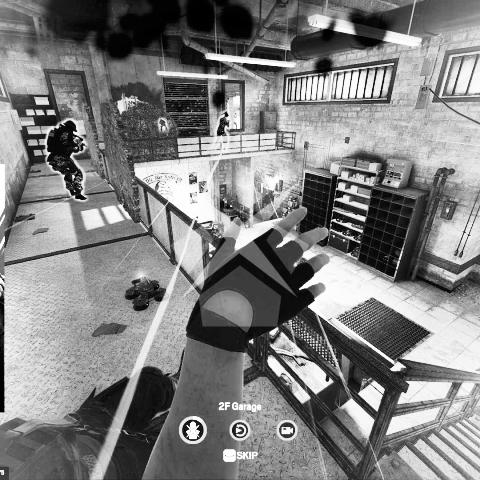Character: (44, 118, 88, 202), (214, 111, 231, 151), (233, 112, 238, 129)
Head: (62, 119, 78, 134), (223, 112, 229, 118), (234, 112, 237, 115)
